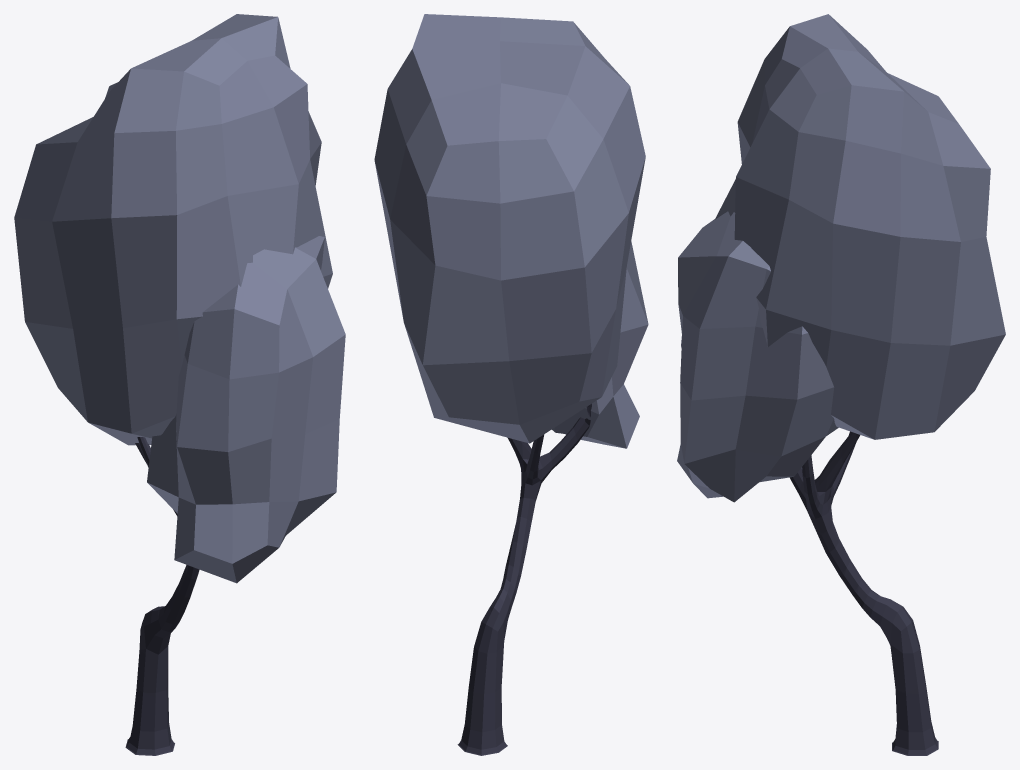
File: Normal_tree_3.fbx
3 views of the same model, side by side, from view 1: azimuth 30°, elevation 25°; view 2: azimuth 150°, elevation 25°; view 3: azimuth 270°, elevation 25° (orthographic). The views are drawn at different scales.
Visible parts, largest first — view 1: Normal_tree__3; view 2: Normal_tree__3; view 3: Normal_tree__3.
Boxes of the visible parts, bbox=[...] form: Normal_tree__3: bbox=[14, 14, 345, 755]; Normal_tree__3: bbox=[374, 14, 648, 755]; Normal_tree__3: bbox=[677, 14, 1005, 755].
Size of the model in its own units: 11.04 by 30.28 by 12.72.
